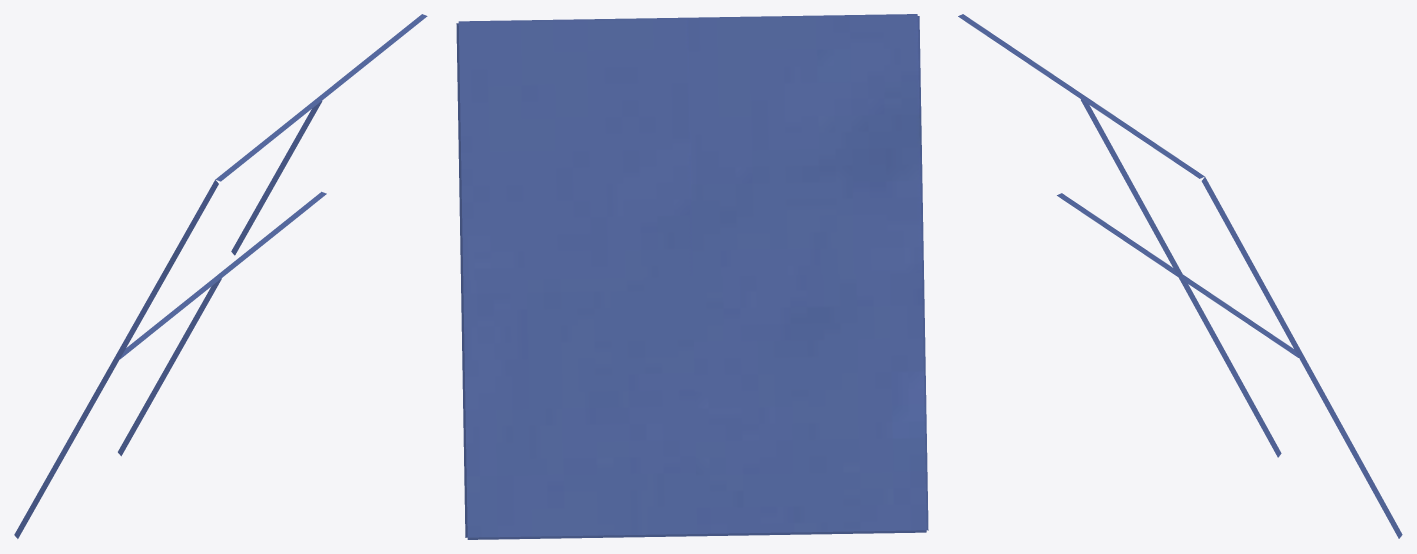
3 views of the same model, side by side, from view 1: azimuth 30°, elevation 25°; view 2: azimuth 150°, elevation 25°; view 3: azimuth 270°, elevation 25° (orthographic). The views are drawn at different scales.
Size of the model in its own units: 39509 by 35211 by 34247.
1 material, 1 textured.
